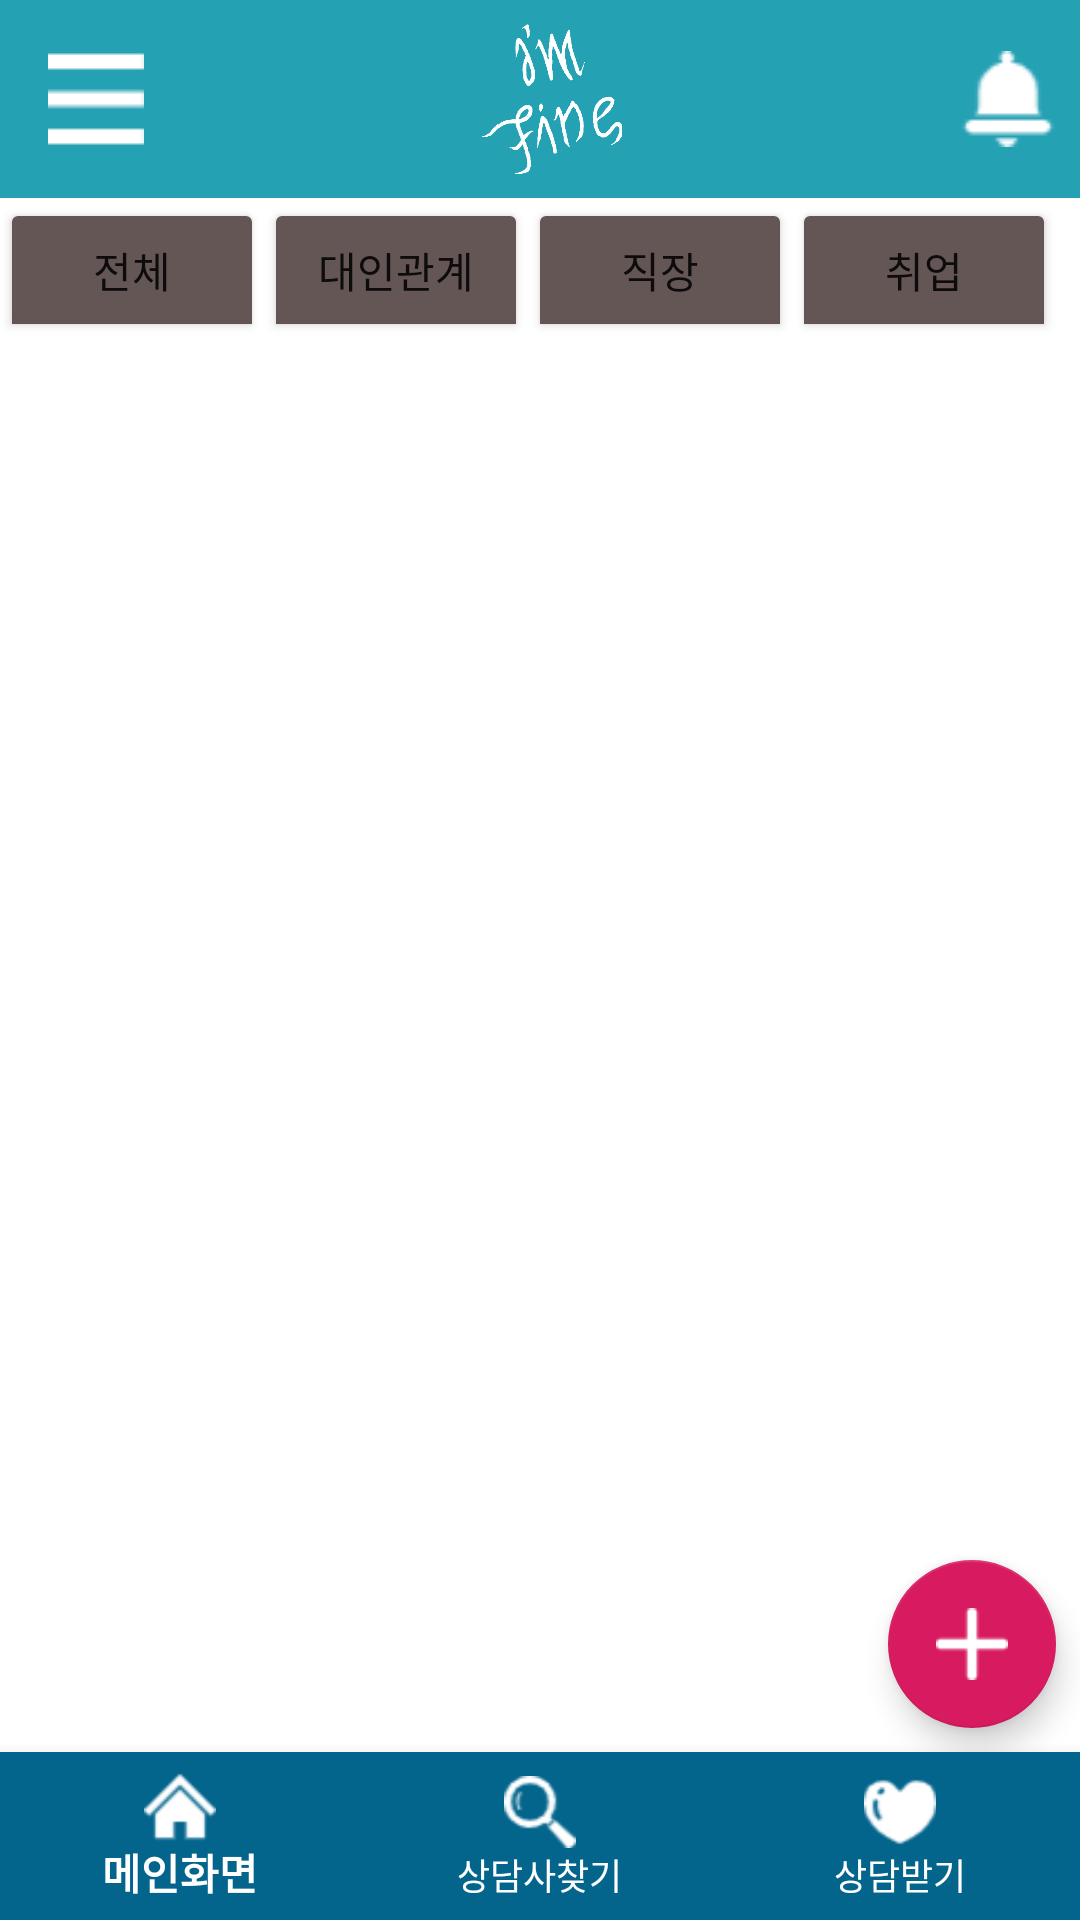

Point at icon controls on the screen. Image size 1080 x 1920, points as [x,y].
add: [972,1644]
bell: [1008,99]
menu: [96,99]
